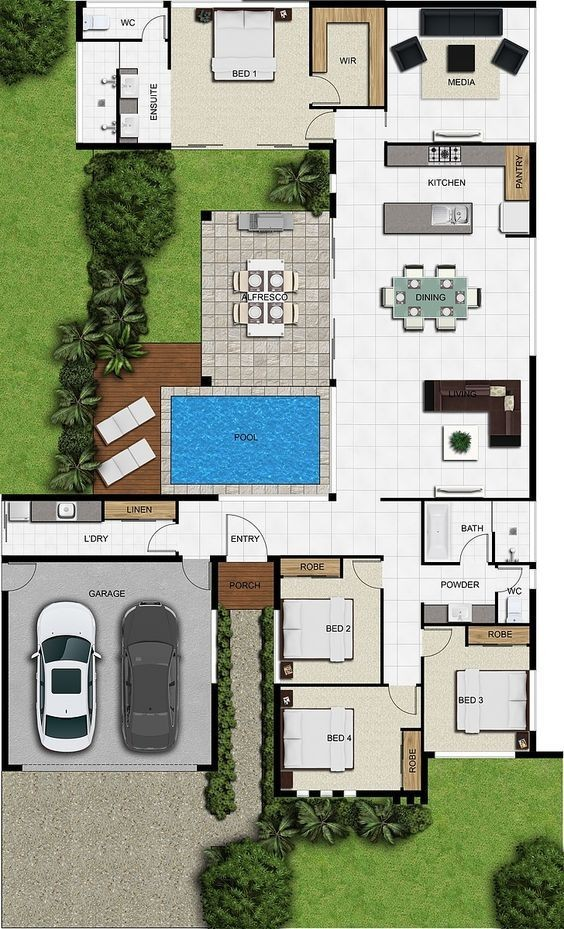room: (383, 1, 536, 145), (167, 1, 313, 150), (273, 682, 424, 798), (419, 625, 535, 759), (273, 553, 385, 687)
